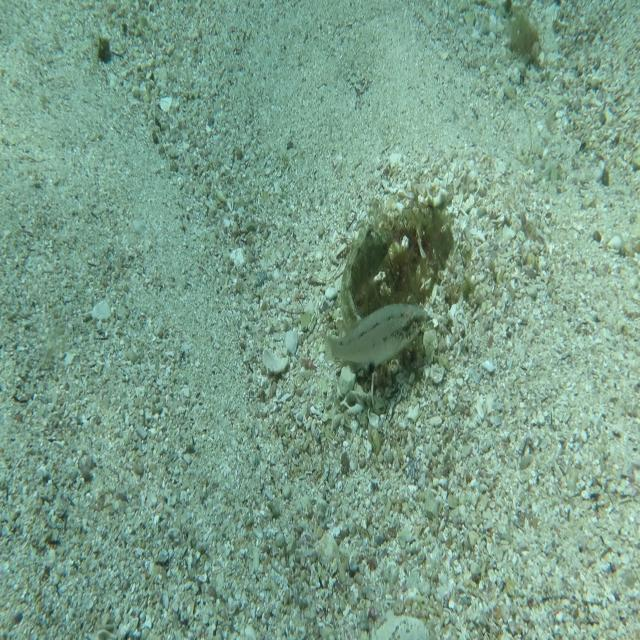BEND_OPP: (339, 221, 398, 334)
female: (322, 300, 428, 378)
nest: (327, 195, 472, 401)
